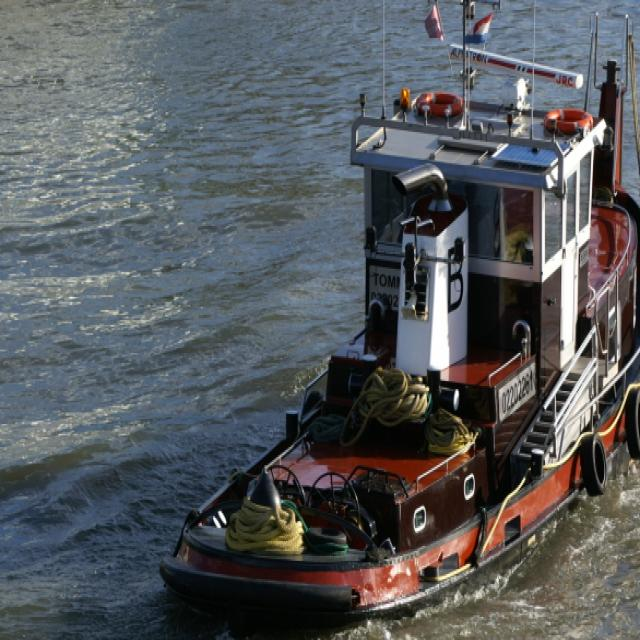tugboat: (155, 1, 640, 640)
